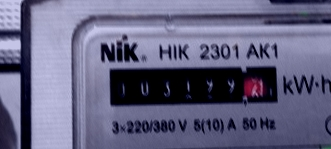0: (136, 79, 147, 98), (113, 80, 122, 98)
1: (180, 76, 189, 94)
3: (158, 79, 168, 99)
6: (246, 84, 256, 98)
9: (201, 75, 211, 95), (223, 77, 233, 95)
screen: (99, 59, 281, 113)
